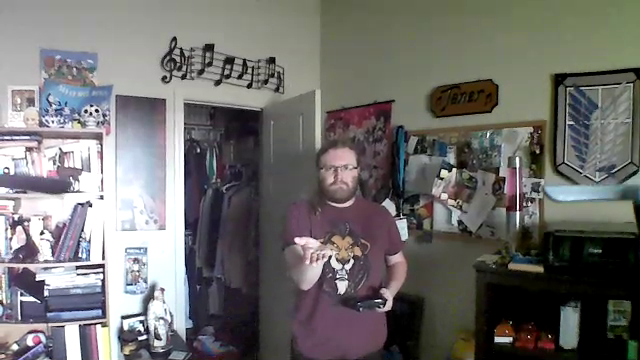land: (288, 234, 333, 266)
